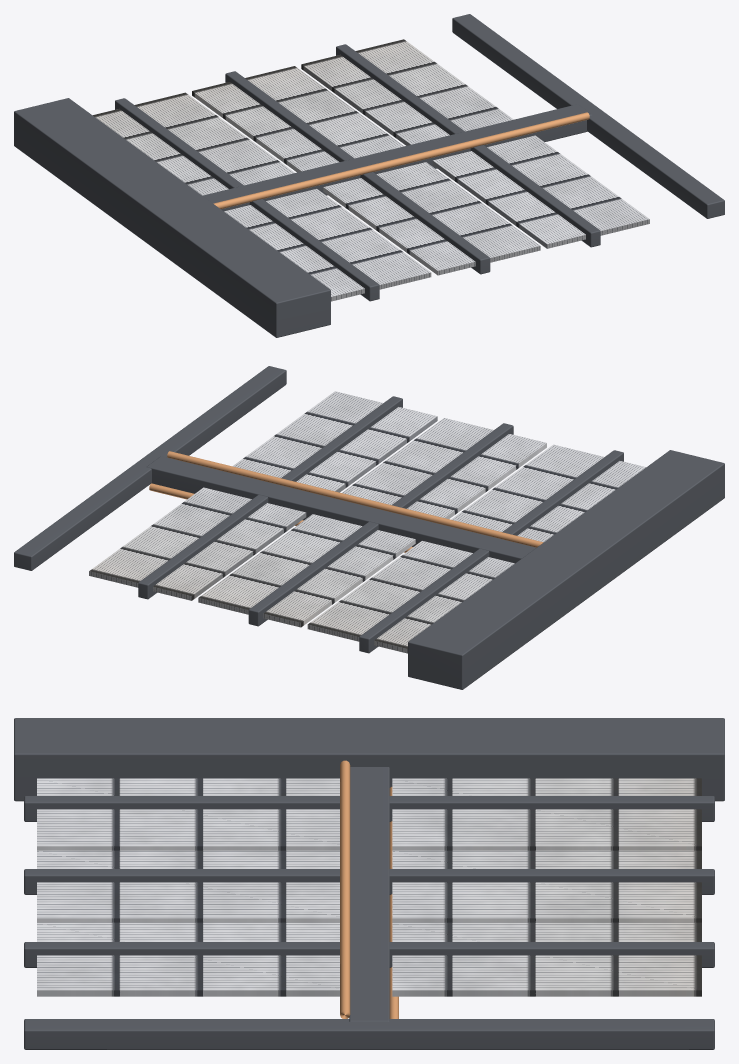
The model's file is mod_radiator_wing_compact.glb.
3 views of the same model, one above another, from view 1: azimuth 30°, elevation 25°; view 2: azimuth 150°, elevation 25°; view 3: azimuth 270°, elevation 25° (orthographic). The views are drawn at different scales.
Visible parts, largest first — view 1: Radiator_Compact_Panels, Radiator_Compact_Frame, Radiator_Compact_Coolant; view 2: Radiator_Compact_Panels, Radiator_Compact_Frame, Radiator_Compact_Coolant; view 3: Radiator_Compact_Panels, Radiator_Compact_Frame, Radiator_Compact_Coolant.
Part boxes in pixels (x1=…): Radiator_Compact_Panels: x1=93, y1=39, x2=649, y2=301; Radiator_Compact_Frame: x1=14, y1=14, x2=724, y2=337; Radiator_Compact_Coolant: x1=213, y1=112, x2=589, y2=208; Radiator_Compact_Panels: x1=89, y1=391, x2=645, y2=653; Radiator_Compact_Frame: x1=14, y1=366, x2=724, y2=689; Radiator_Compact_Coolant: x1=149, y1=451, x2=543, y2=552; Radiator_Compact_Panels: x1=37, y1=778, x2=701, y2=996; Radiator_Compact_Frame: x1=14, y1=718, x2=724, y2=1049; Radiator_Compact_Coolant: x1=340, y1=760, x2=398, y2=1018.
Bounding box in the file's own units: 6.96 × 0.52 × 7.
3 materials, 1 textured.
